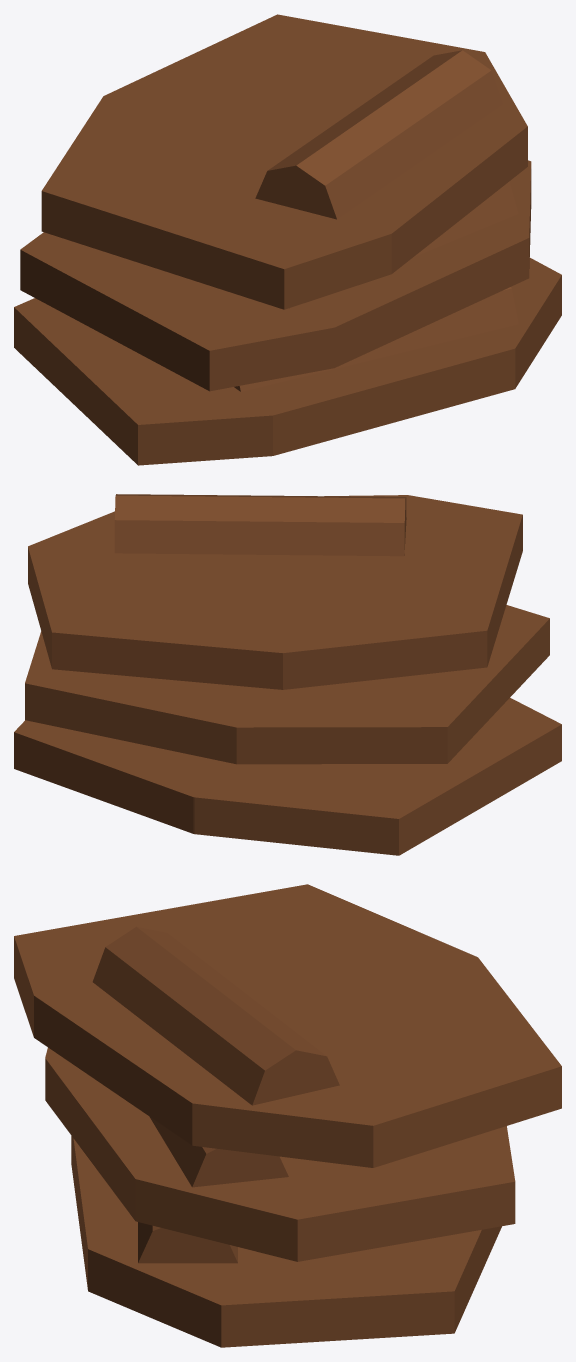
The model's file is Leather_Thick.fbx.
The picture shows the model from 3 angles, top to bottom: view 1: azimuth 30°, elevation 25°; view 2: azimuth 150°, elevation 25°; view 3: azimuth 270°, elevation 25°; orthographic projection. The views are drawn at different scales.
Parts seen in each view (by area): view 1: Leather_Thick__Stack, Leather_Thick; view 2: Leather_Thick__Stack, Leather_Thick; view 3: Leather_Thick__Stack, Leather_Thick.
Part boxes in pixels (box(x1,y1,x2,y2)): Leather_Thick__Stack: box(20, 14, 561, 455); Leather_Thick: box(14, 258, 560, 465); Leather_Thick__Stack: box(14, 494, 560, 833); Leather_Thick: box(17, 698, 561, 855); Leather_Thick__Stack: box(14, 884, 561, 1347); Leather_Thick: box(73, 1139, 481, 1300).
Bounding box in the file's own units: 0.1752 × 0.0888 × 0.1645.
